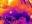Hotspot: (0, 0, 21, 14), (29, 0, 31, 5), (0, 20, 3, 23), (30, 14, 31, 19)
